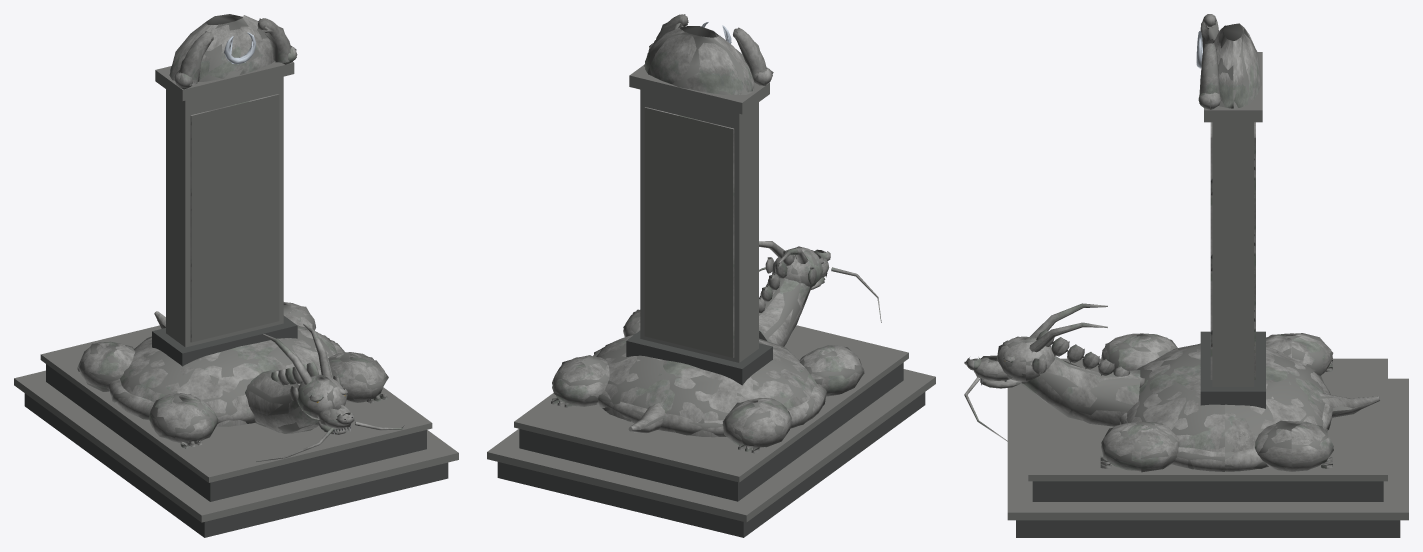
The model's file is prop_clan_stele.gltf.
3 renders of one model, left to right at view 1: azimuth 30°, elevation 25°; view 2: azimuth 150°, elevation 25°; view 3: azimuth 270°, elevation 25°, orthographic. The views are drawn at different scales.
Visible parts, largest first — view 1: Far, Near; view 2: Far, Near; view 3: Far, Near.
Part boxes in pixels (x1=…): Far: x1=14, y1=14, x2=458, y2=537; Near: x1=77, y1=15, x2=404, y2=462; Far: x1=487, y1=14, x2=935, y2=537; Near: x1=551, y1=14, x2=881, y2=453; Far: x1=966, y1=15, x2=1408, y2=537; Near: x1=964, y1=14, x2=1380, y2=471.
Bounding box in the file's own units: 3.8 × 5.88 × 5.32.
7 materials, 3 textured.
